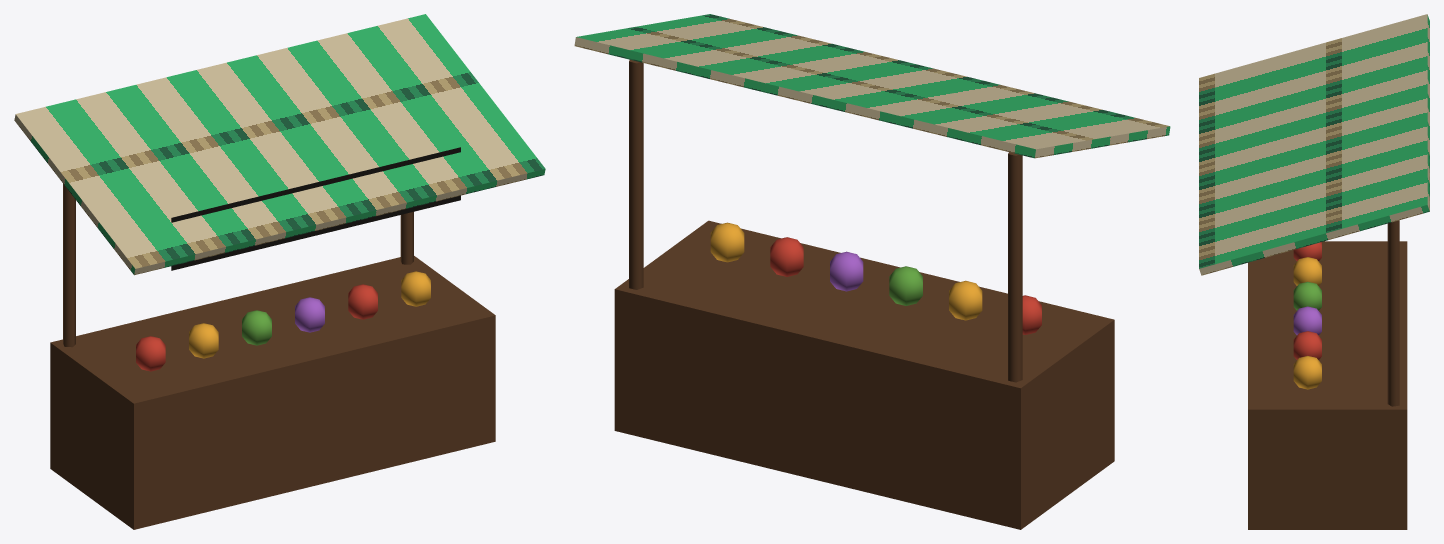
The model's file is Stand_2.glb.
3 renders of one model, left to right at view 1: azimuth 30°, elevation 25°; view 2: azimuth 150°, elevation 25°; view 3: azimuth 270°, elevation 25°, orthographic. The views are drawn at different scales.
Visible parts, largest first — view 1: Stand_2; view 2: Stand_2; view 3: Stand_2.
Boxes of the visible parts, x1,y1,x2,y2 form: Stand_2: [14, 14, 545, 529]; Stand_2: [574, 14, 1170, 529]; Stand_2: [1199, 14, 1429, 529].
Bounding box in the file's own units: 3.4 × 2.79 × 1.74.
Materials: 9 (2 with a texture image).
